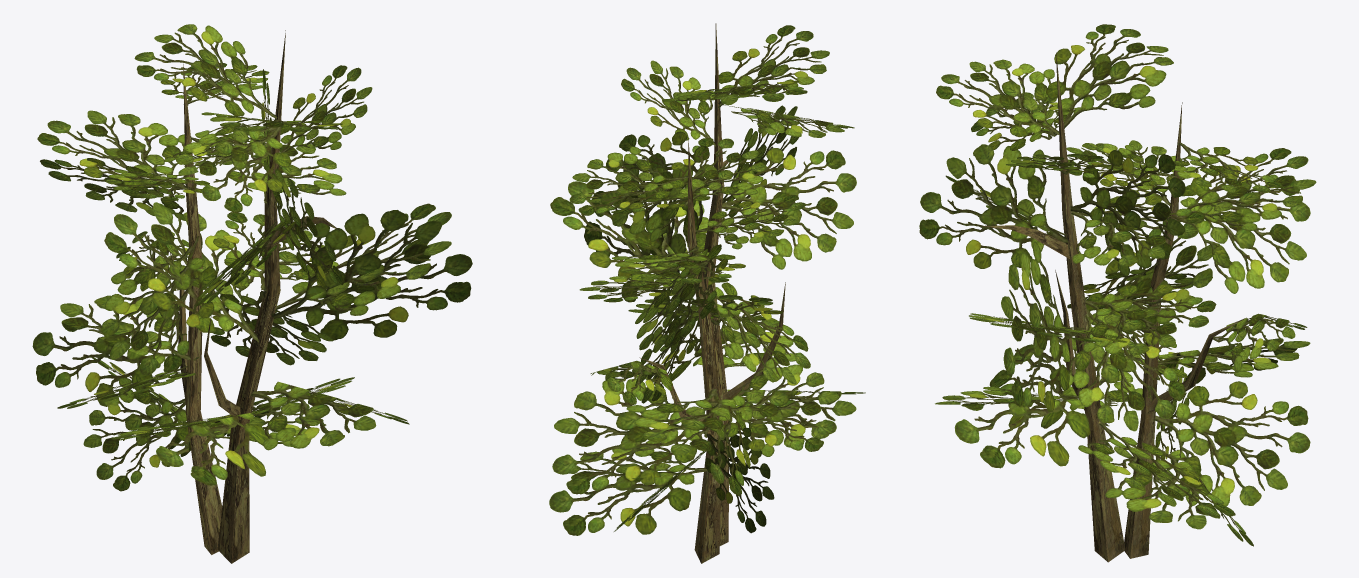
Rendered from guanmu_04.FBX.
3 views of the same model, side by side, from view 1: azimuth 30°, elevation 25°; view 2: azimuth 150°, elevation 25°; view 3: azimuth 270°, elevation 25° (orthographic). The views are drawn at different scales.
Visible parts, largest first — view 1: guanmu_04_01; view 2: guanmu_04_01; view 3: guanmu_04_01.
Boxes of the visible parts, x1,y1,x2,y2 form: guanmu_04_01: (32, 24, 472, 563); guanmu_04_01: (549, 23, 865, 563); guanmu_04_01: (919, 24, 1316, 562).
Size of the model in its own units: 2.65 by 3.69 by 2.88.
